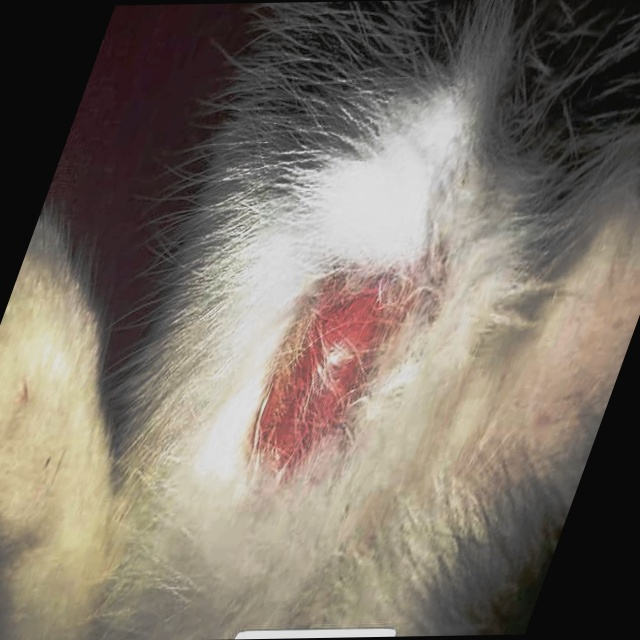lump_and_bump: (255, 291, 411, 443)
